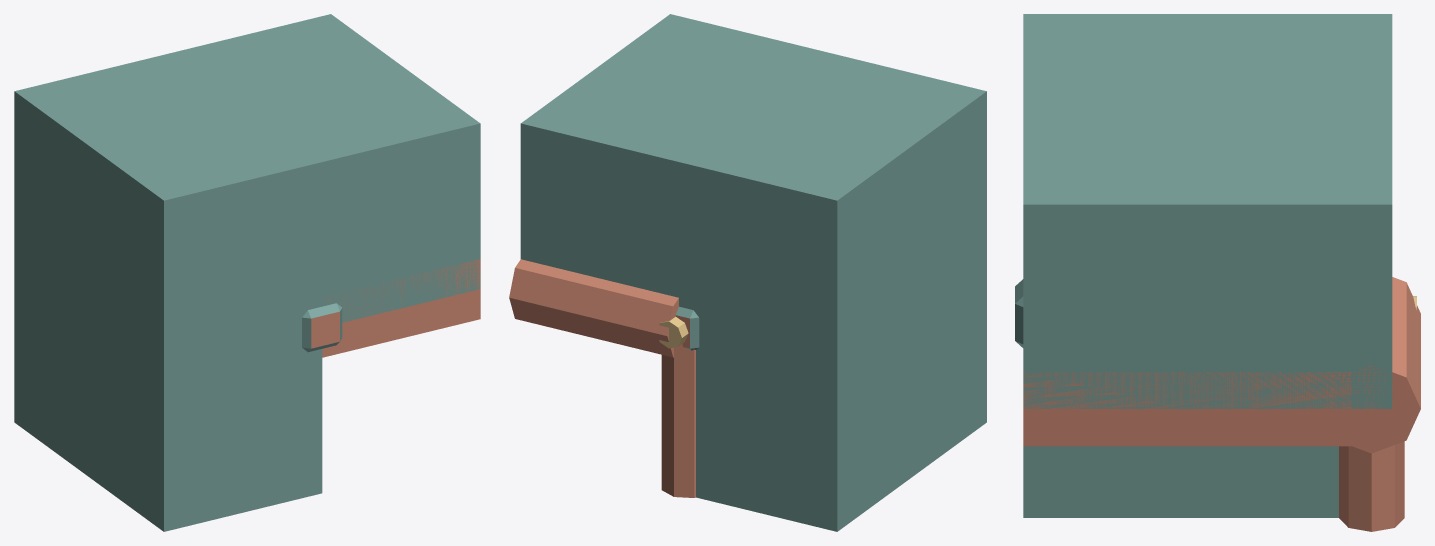
Rendered from TH_Tile_14.fbx.
The picture shows the model from 3 angles, left to right: view 1: azimuth 30°, elevation 25°; view 2: azimuth 150°, elevation 25°; view 3: azimuth 270°, elevation 25°; orthographic projection. The views are drawn at different scales.
Parts seen in each view (by area): view 1: TH_Tile_14; view 2: TH_Tile_14; view 3: TH_Tile_14.
Boxes of the visible parts, left/top/right/bottom form: TH_Tile_14: left=14, top=14, right=480, bottom=531; TH_Tile_14: left=509, top=14, right=986, bottom=531; TH_Tile_14: left=1015, top=14, right=1420, bottom=531.
Size of the model in its own units: 1.1 by 1.1 by 0.99.
